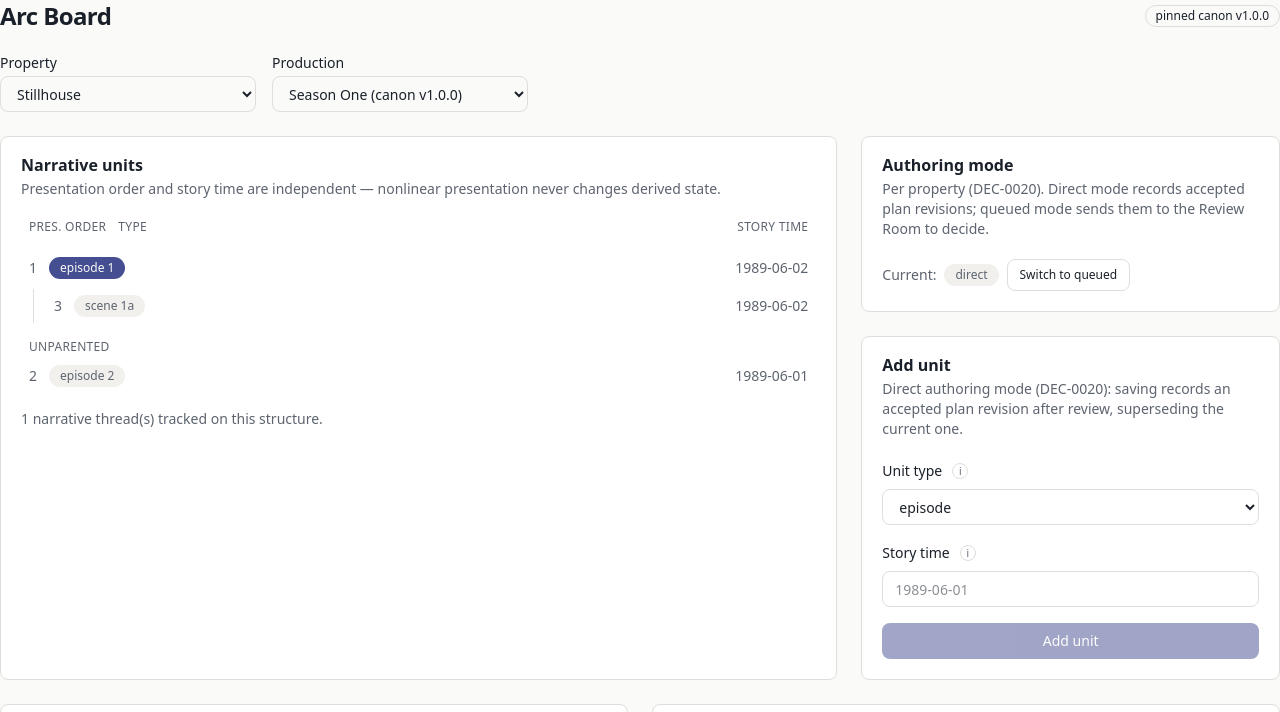
it: Arc Board › switches the save control and copy when the property is flipped to queued mode (DEC-0020)
Expected: the text "Direct authoring mode" is shown, [882,379,1231,438]
Note: Flip to queued through the governed toggle (two activations).
Click the button "Switch to queued" at (1068, 275), box [1006,259,1130,291]
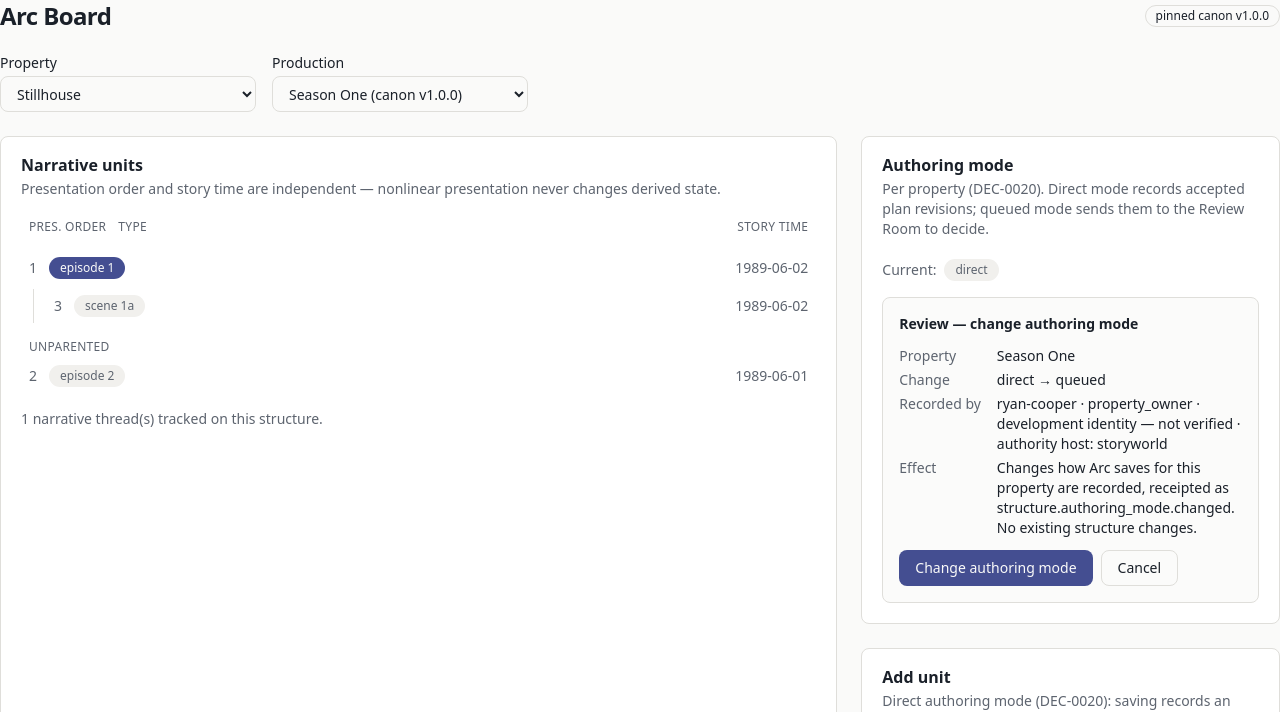
Click the button "Change authoring mode" at (996, 568), box [899,550,1092,586]
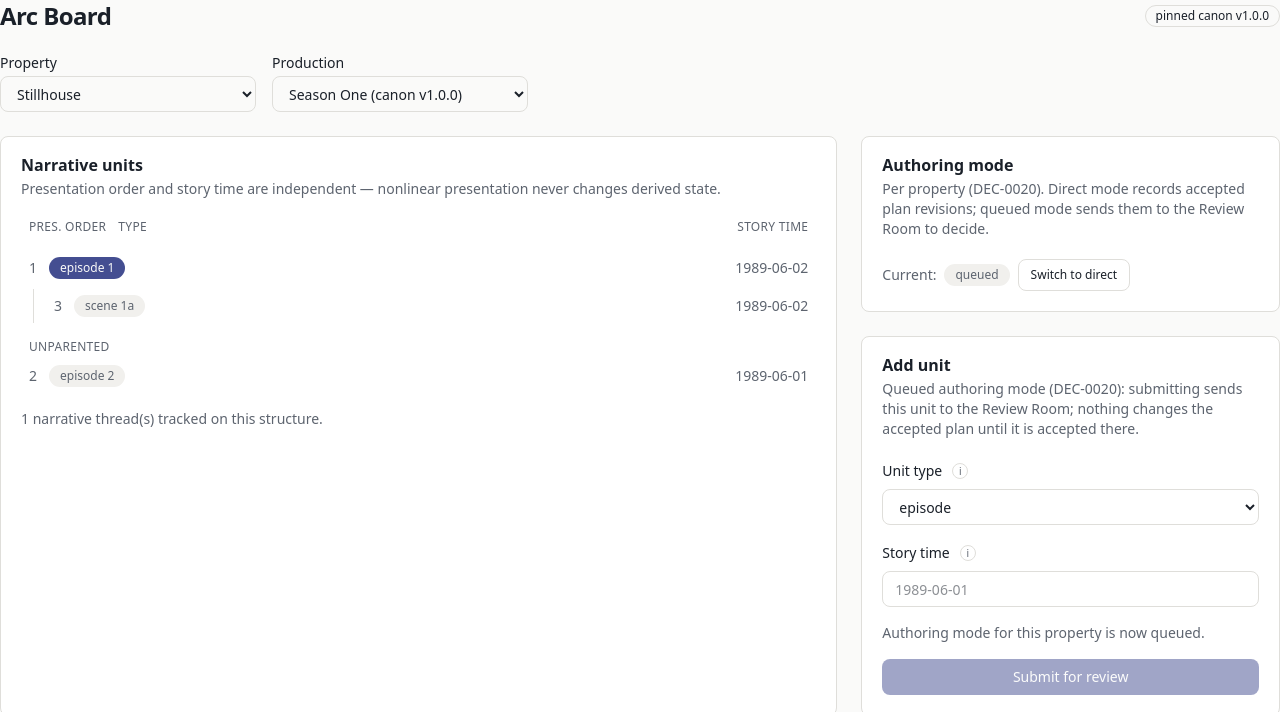
Expected: the text "Authoring mode for this property is now queued." is shown, [882,623,1259,643]
Expected: the button "Submit for review" is shown, [882,659,1259,695]
Expected: the text "Queued authoring mode" is shown, [882,379,1242,438]
